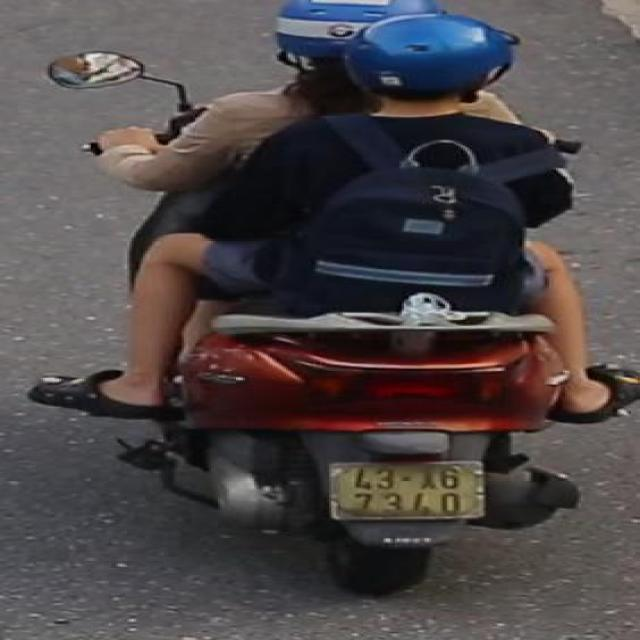LP: (326, 454, 491, 526)
helmet: (338, 10, 529, 142)
